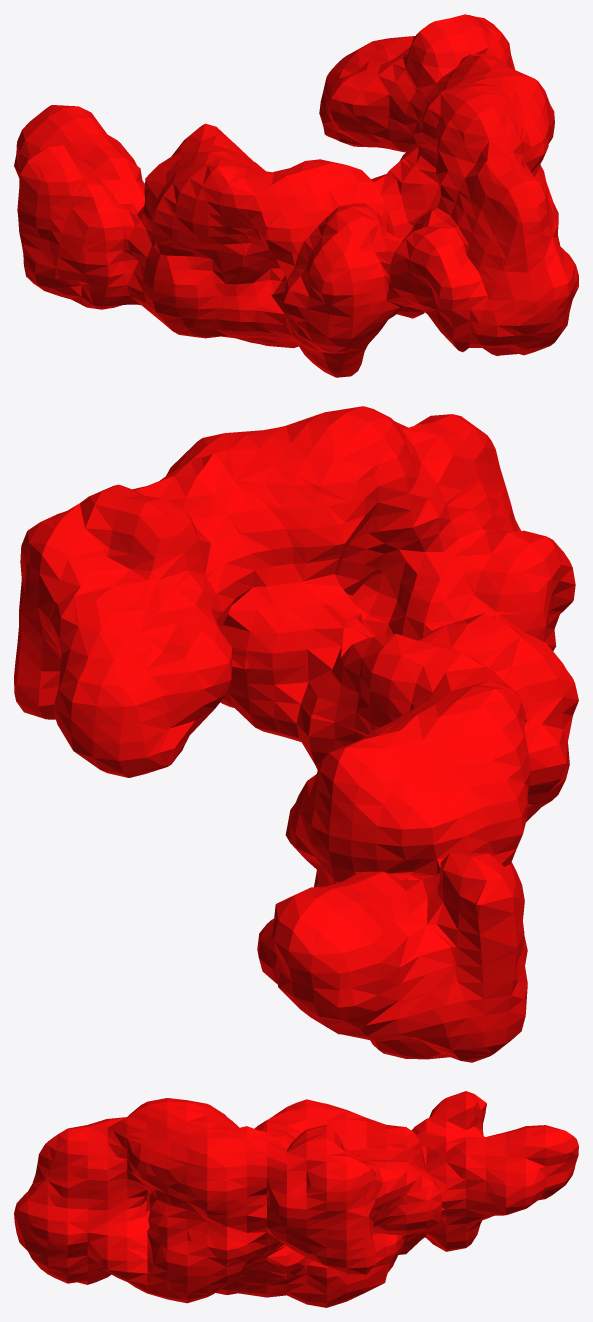
The model's file is dsbB_coarse.dae.
3 renders of one model, top to bottom at view 1: azimuth 30°, elevation 25°; view 2: azimuth 150°, elevation 25°; view 3: azimuth 270°, elevation 25°, orthographic. The views are drawn at different scales.
Visible parts, largest first — view 1: dsbB; view 2: dsbB; view 3: dsbB.
Part boxes in pixels (x1,y1,x2,y2): dsbB: (14,14,578,377); dsbB: (14,406,578,1062); dsbB: (14,1091,578,1307).
Size of the model in its own units: 114 by 76.68 by 157.
